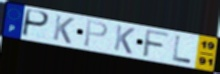F: (141, 28, 171, 59)
K: (112, 24, 136, 56), (52, 14, 76, 45)
L: (171, 34, 193, 65)
P: (20, 8, 51, 39), (83, 20, 110, 49)
